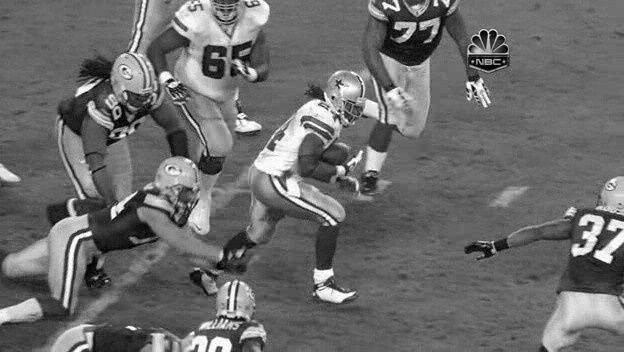person: (328, 71, 364, 123), (327, 71, 363, 123), (329, 71, 365, 123), (328, 70, 364, 122), (328, 72, 364, 124)
target_negative: (39, 207, 208, 276), (176, 180, 391, 202), (288, 172, 318, 267), (46, 92, 70, 194), (115, 339, 407, 345), (593, 136, 598, 333)
